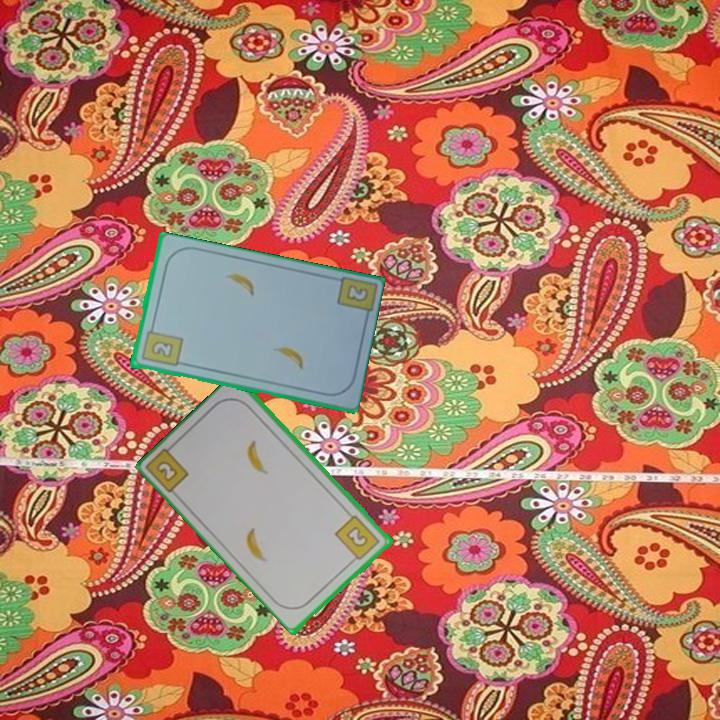2b: (332, 511, 383, 565), (138, 322, 185, 370), (153, 457, 181, 485), (342, 281, 371, 305)
